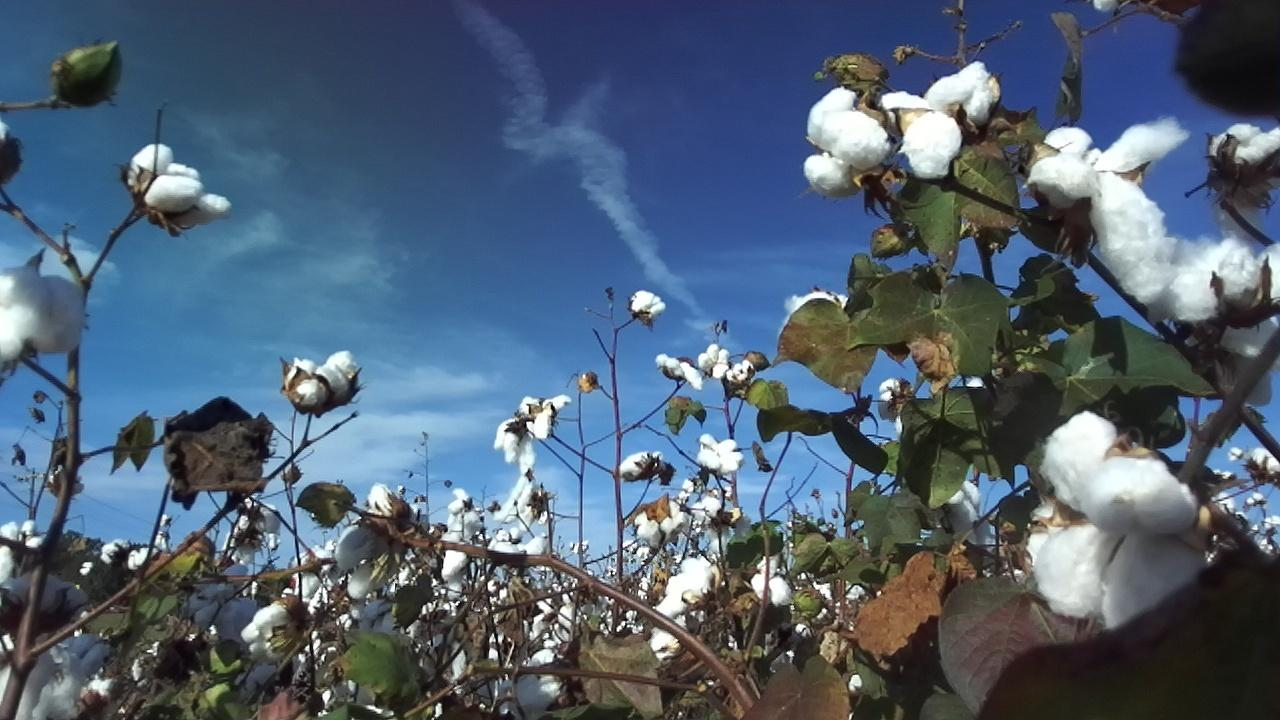cotton_ready: (1024, 412, 1206, 633), (1025, 120, 1192, 305), (1172, 237, 1280, 406), (805, 89, 962, 195), (0, 264, 90, 363), (131, 145, 232, 232), (0, 639, 104, 720), (0, 525, 87, 617), (337, 484, 399, 598), (651, 557, 714, 658), (493, 396, 571, 470), (189, 564, 248, 643), (288, 349, 360, 412), (777, 294, 848, 350), (928, 60, 997, 115), (513, 649, 565, 720), (243, 601, 300, 660), (948, 478, 994, 548), (1212, 125, 1280, 162), (635, 500, 684, 544), (753, 556, 791, 606), (700, 436, 742, 476), (631, 289, 665, 321)
